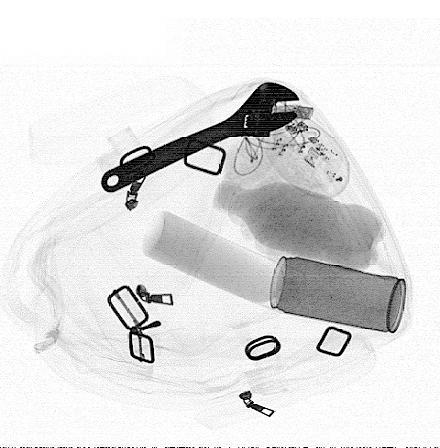Wrench: (99, 80, 301, 195)
